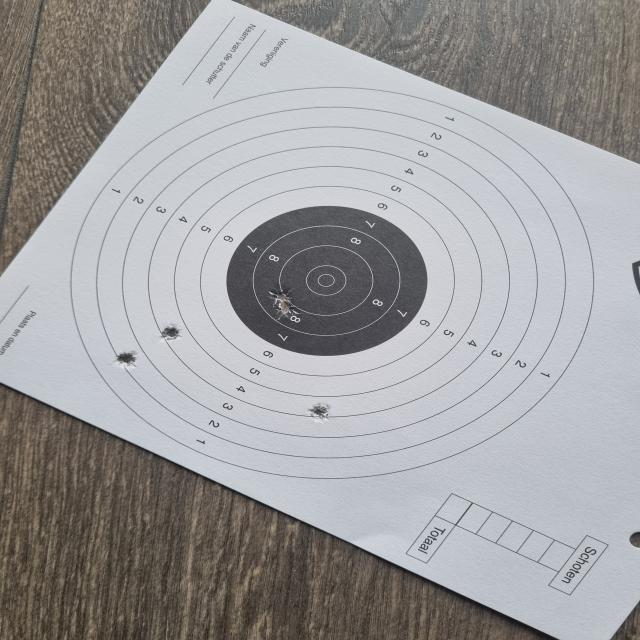2: (111, 349, 140, 371)
4: (304, 402, 334, 424), (157, 323, 186, 345)
7: (271, 302, 303, 320)
8: (265, 286, 296, 304)
Target: (70, 87, 596, 479)
black_contour: (226, 205, 429, 358)
